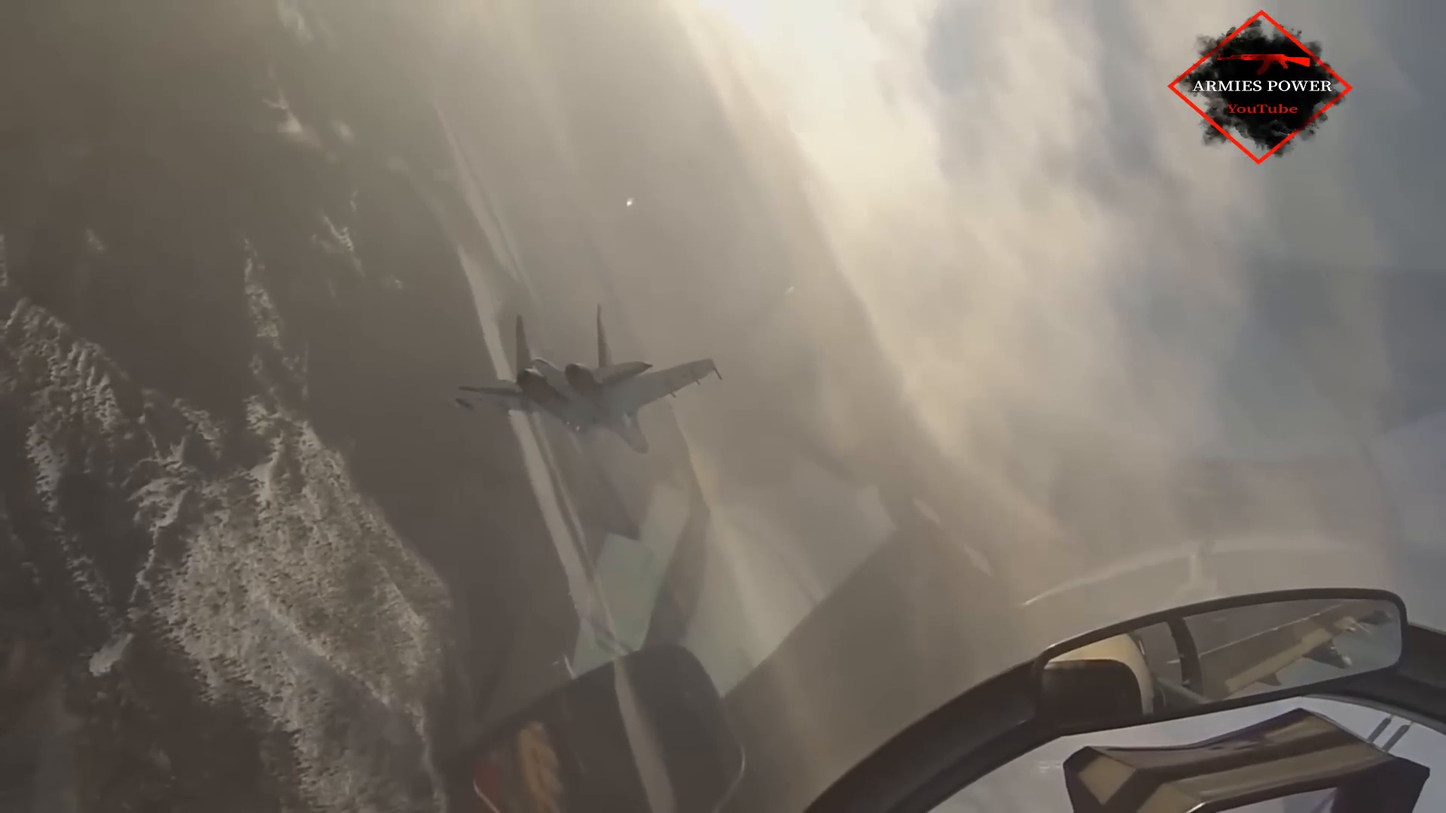Su35: (452, 305, 723, 456)
